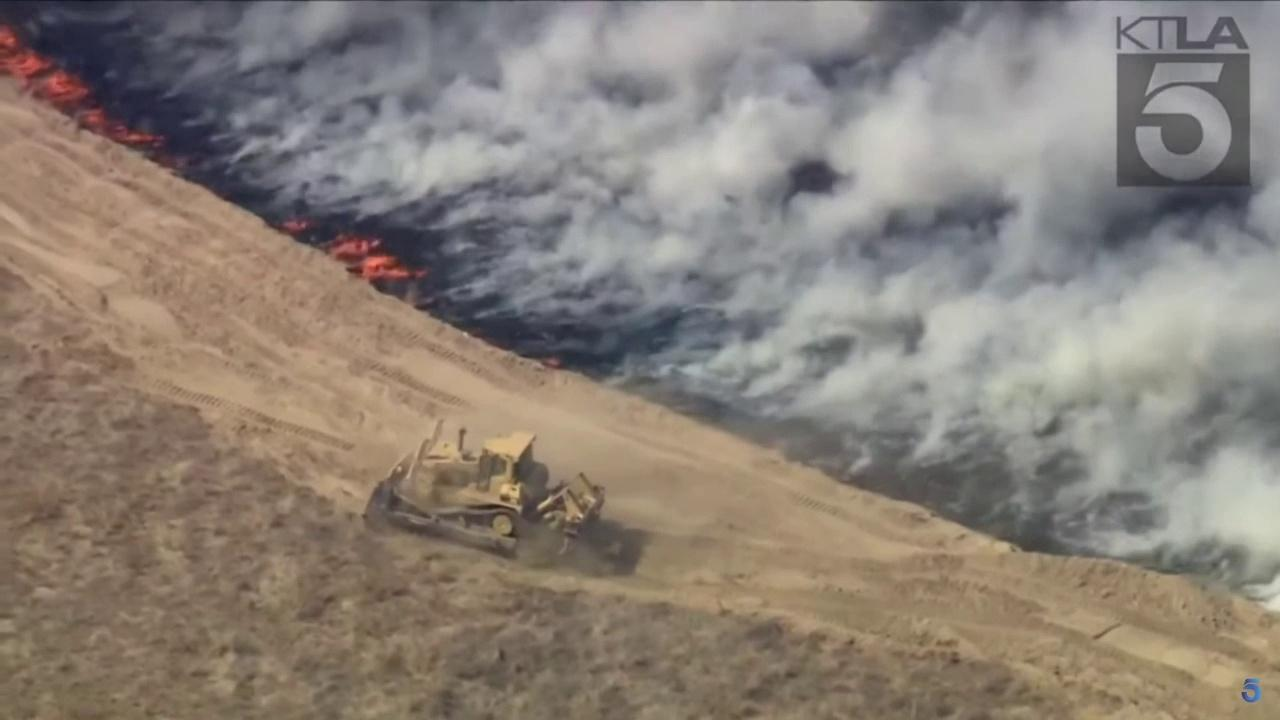fire: (0, 24, 170, 146), (307, 233, 429, 280), (277, 217, 309, 235)
smoke: (0, 0, 1280, 613)
